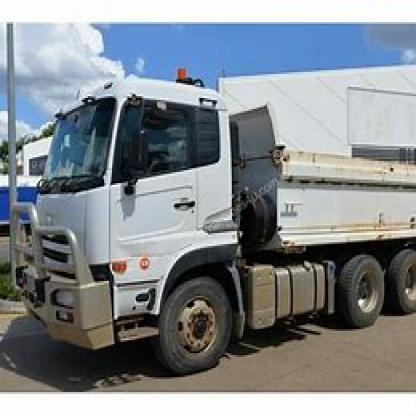dump_truck: (20, 74, 414, 362)
